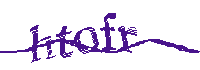f: (100, 10, 116, 53)
h: (30, 25, 54, 61)
o: (73, 26, 100, 55)
r: (118, 25, 137, 53)
t: (56, 26, 74, 60)
